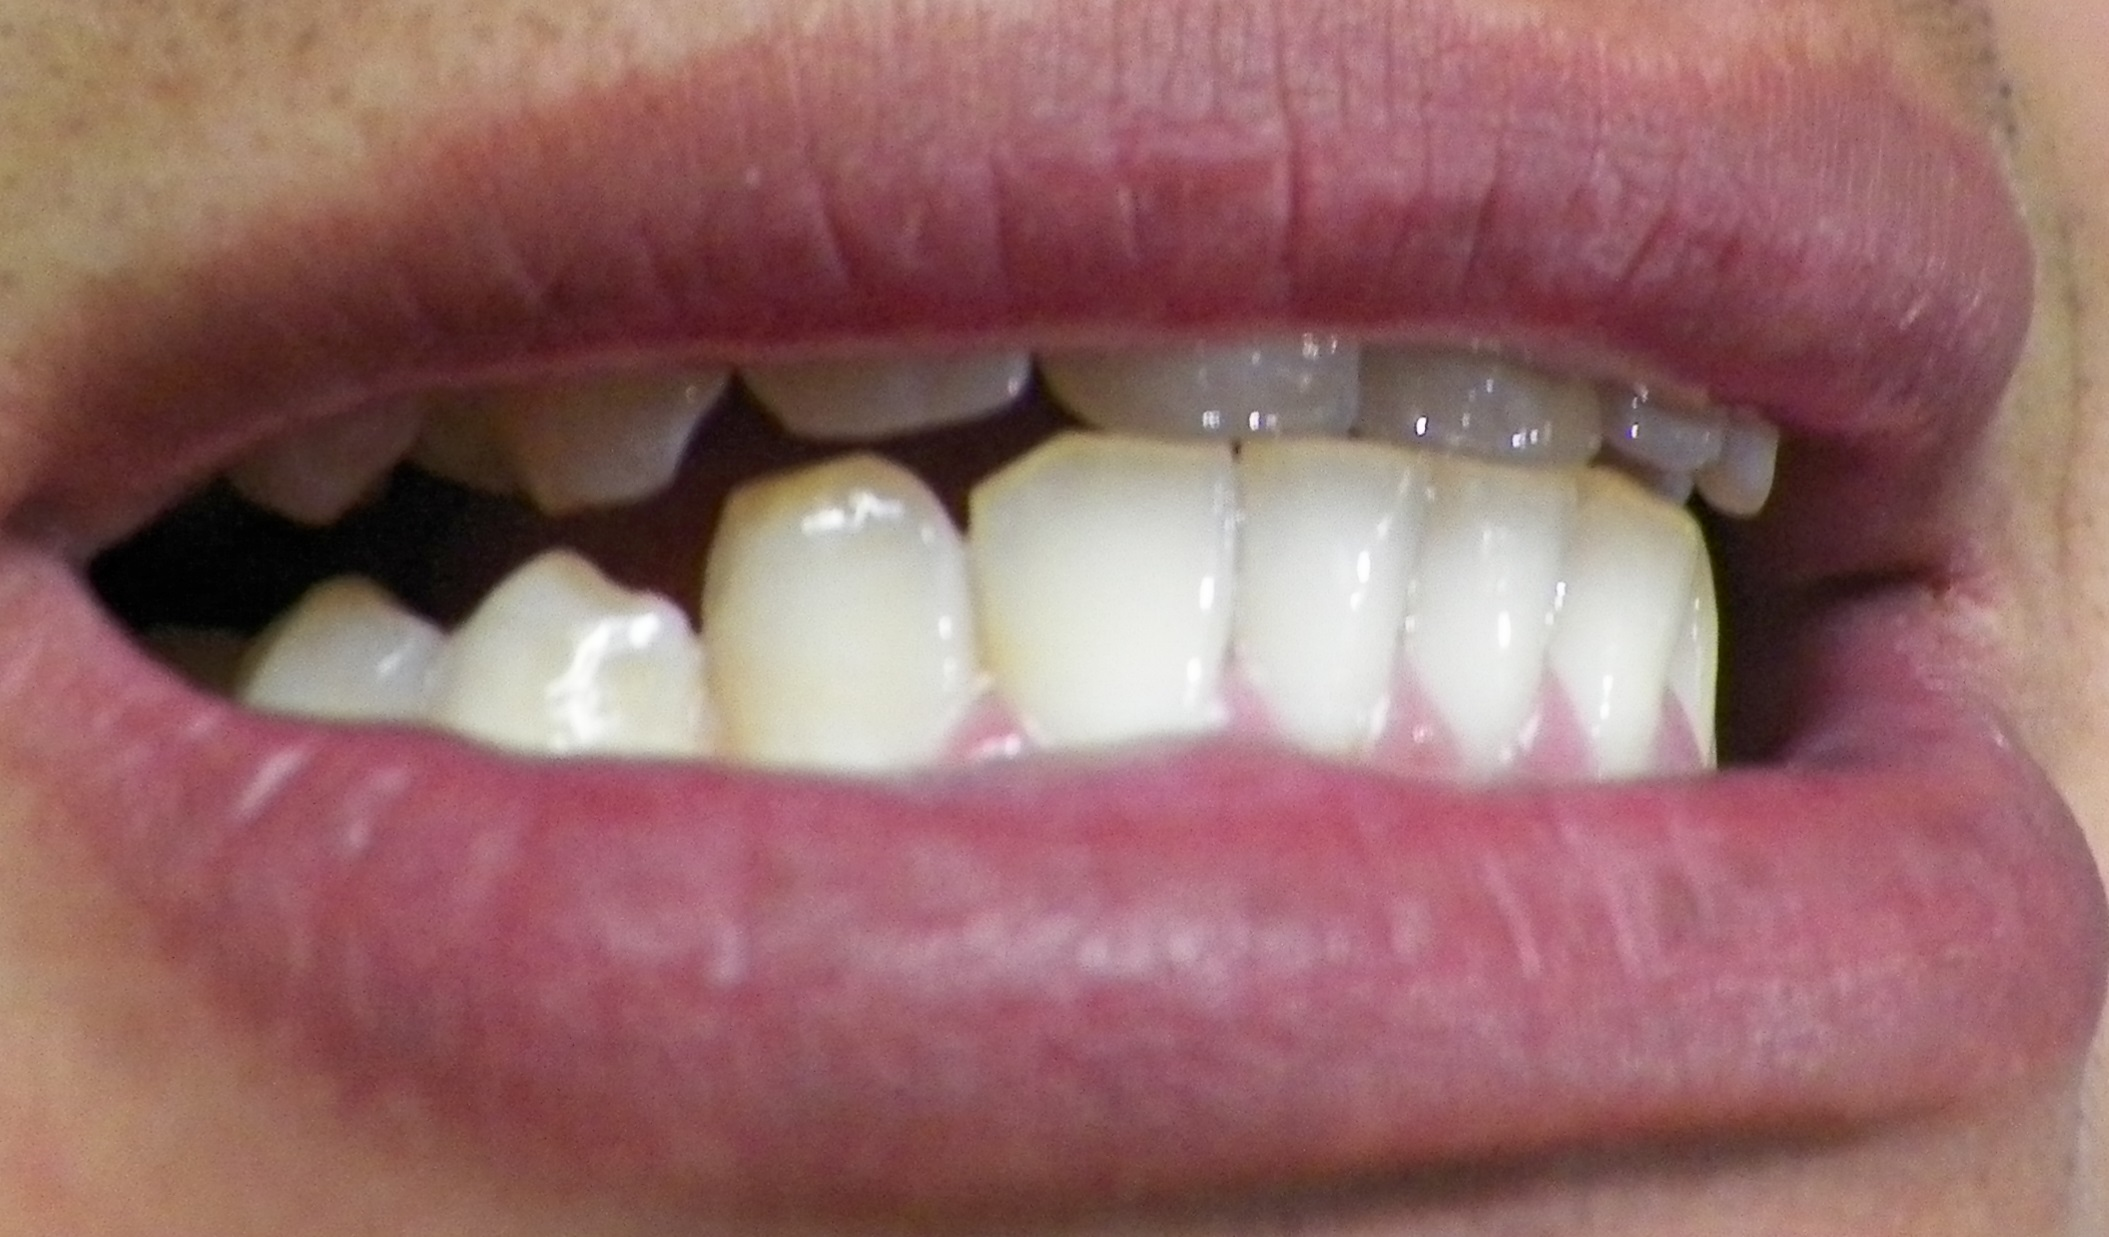boca: (256, 334, 1786, 753)
